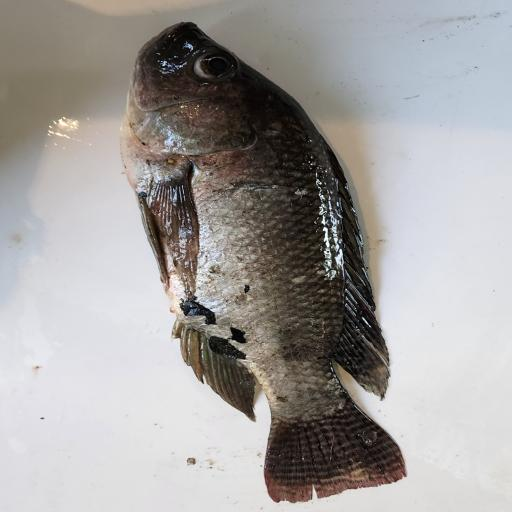Tilapia: (119, 22, 408, 504)
